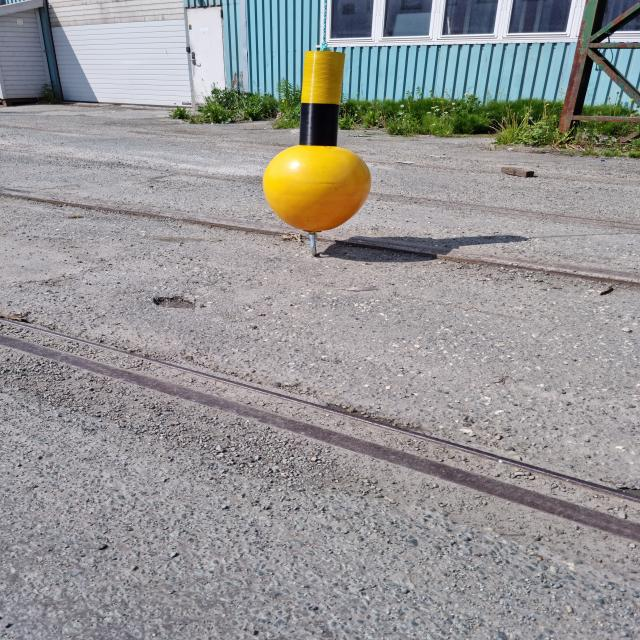west: (262, 52, 372, 234)
